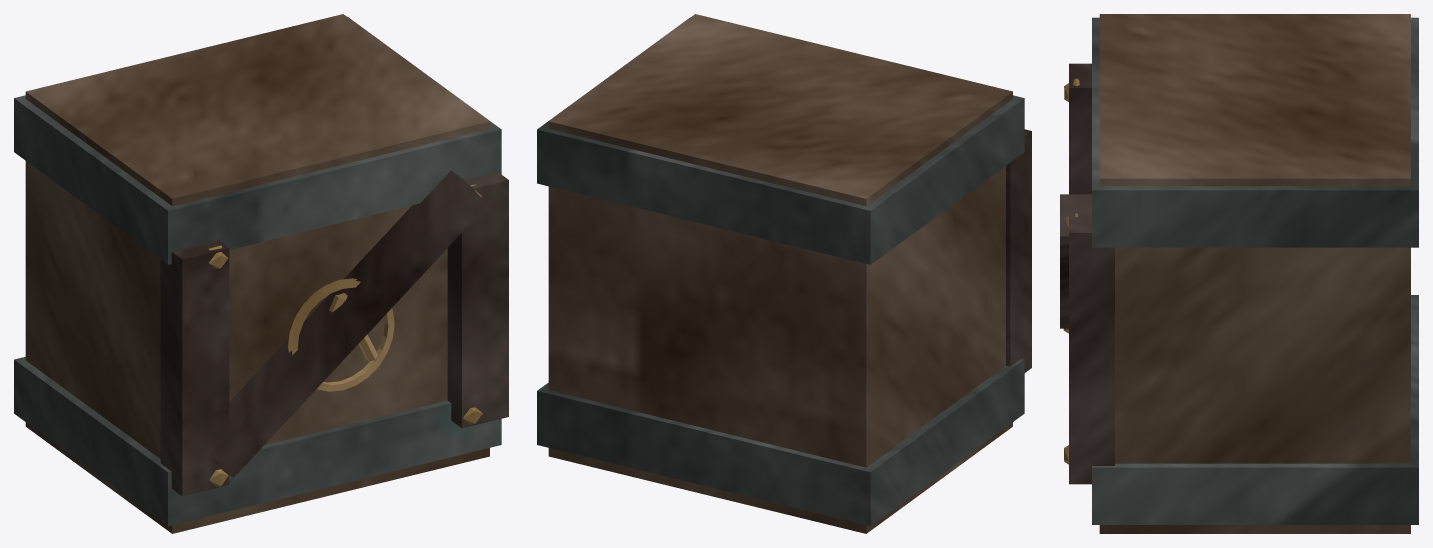
The model's file is 0735_supply_crate_10.glb.
3 renders of one model, left to right at view 1: azimuth 30°, elevation 25°; view 2: azimuth 150°, elevation 25°; view 3: azimuth 270°, elevation 25°, orthographic. The views are drawn at different scales.
Parts seen in each view (by area): view 1: wood, iron, wood_dark, brass; view 2: wood, iron, wood_dark; view 3: wood, iron, wood_dark.
Boxes of the visible parts, x1,y1,x2,y2 form: wood: [25, 14, 489, 533]; iron: [14, 17, 501, 526]; wood_dark: [160, 170, 508, 496]; brass: [208, 184, 482, 486]; wood: [548, 14, 1012, 533]; iron: [537, 17, 1024, 526]; wood_dark: [1006, 129, 1031, 372]; wood: [1099, 14, 1410, 533]; iron: [1092, 17, 1418, 524]; wood_dark: [1060, 63, 1114, 484].
Size of the model in its own units: 0.7114 by 0.6827 by 0.6245.
Materials: 4 (4 with a texture image).
